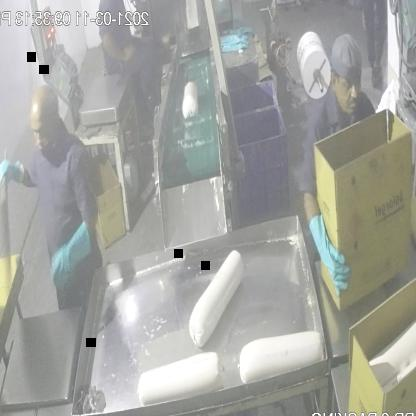glove: (306, 214, 358, 297), (48, 219, 94, 292), (0, 147, 30, 202)
no_glove: (96, 25, 134, 72)
